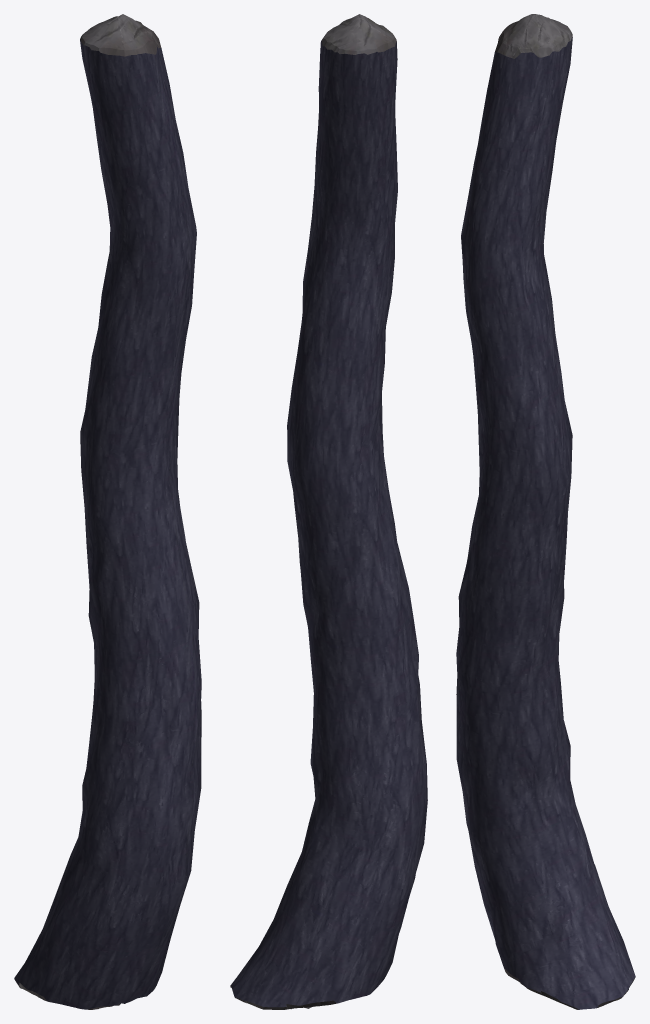
The picture shows the model from 3 angles, left to right: view 1: azimuth 90°, elevation 25°; view 2: azimuth 150°, elevation 25°; view 3: azimuth 270°, elevation 25°; orthographic projection. The views are drawn at different scales.
Visible parts, largest first — view 1: SM_Willow_03_tree_quarters_bottom_LOD0; view 2: SM_Willow_03_tree_quarters_bottom_LOD0; view 3: SM_Willow_03_tree_quarters_bottom_LOD0.
Part boxes in pixels (x1,y1,x2,y2): SM_Willow_03_tree_quarters_bottom_LOD0: (14, 14, 201, 1009); SM_Willow_03_tree_quarters_bottom_LOD0: (230, 14, 427, 1009); SM_Willow_03_tree_quarters_bottom_LOD0: (456, 14, 635, 1009).
Size of the model in its own units: 1.21 by 7.55 by 1.27.
1 material, 1 textured.
